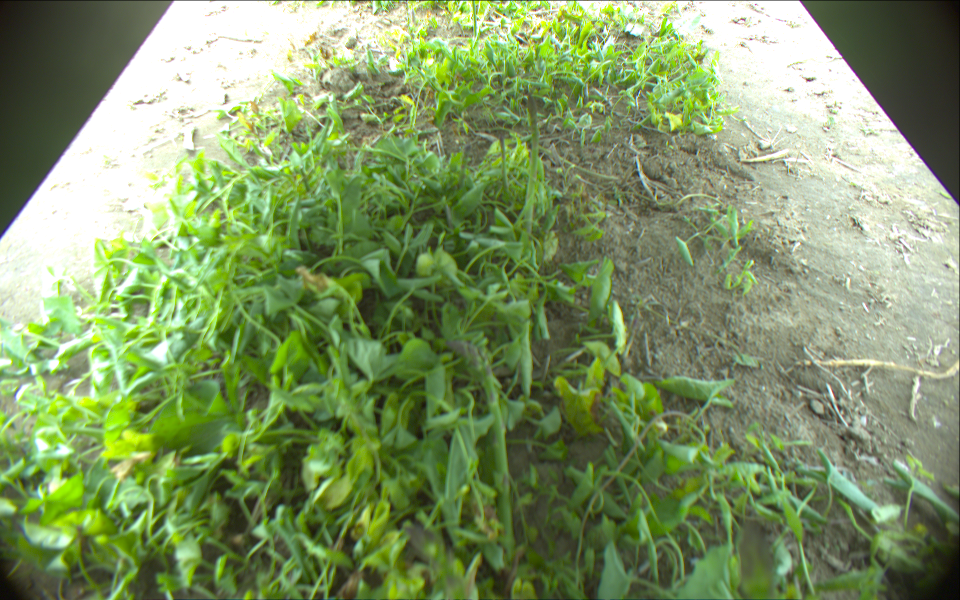aspa: (444, 341, 515, 543), (404, 519, 470, 600), (518, 88, 539, 233), (496, 130, 512, 196), (455, 145, 471, 190), (470, 1, 481, 44)
